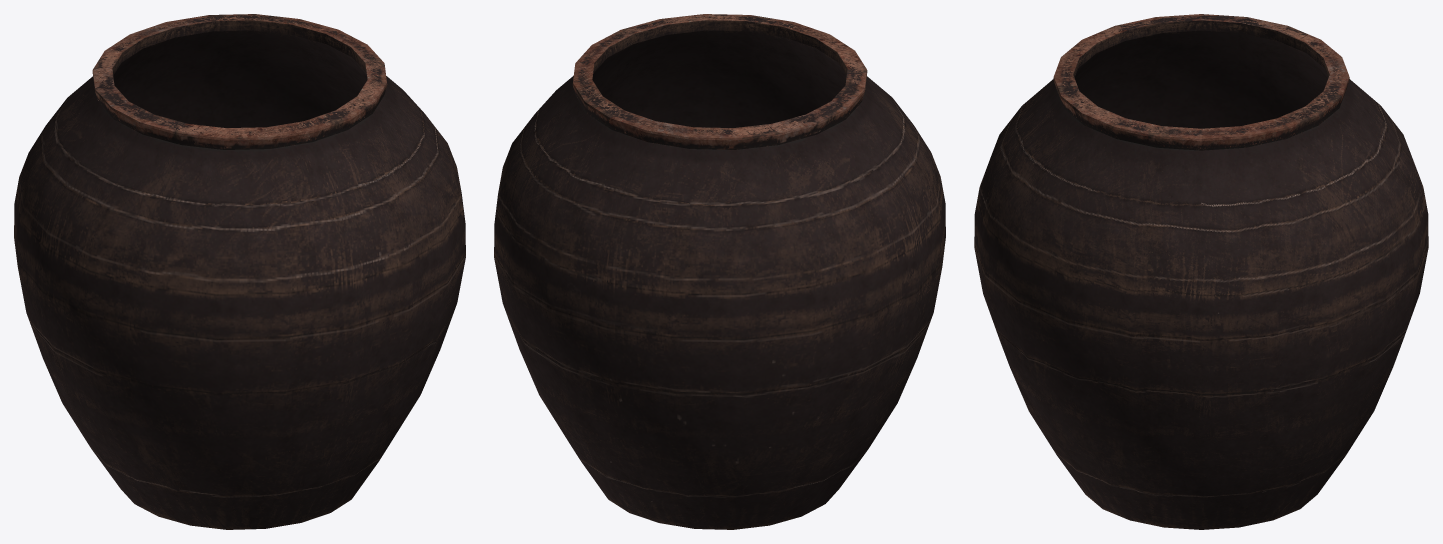
Rendered from jar.glb.
The picture shows the model from 3 angles, left to right: view 1: azimuth 30°, elevation 25°; view 2: azimuth 150°, elevation 25°; view 3: azimuth 270°, elevation 25°; orthographic projection.
Visible parts, largest first — view 1: SM_Jar01b; view 2: SM_Jar01b; view 3: SM_Jar01b.
Part boxes in pixels (x1,y1,x2,y2): SM_Jar01b: (14, 14, 465, 529); SM_Jar01b: (494, 14, 945, 529); SM_Jar01b: (974, 14, 1428, 529).
Size of the model in its own units: 0.762 by 0.7518 by 0.762.
1 material, 1 textured.
